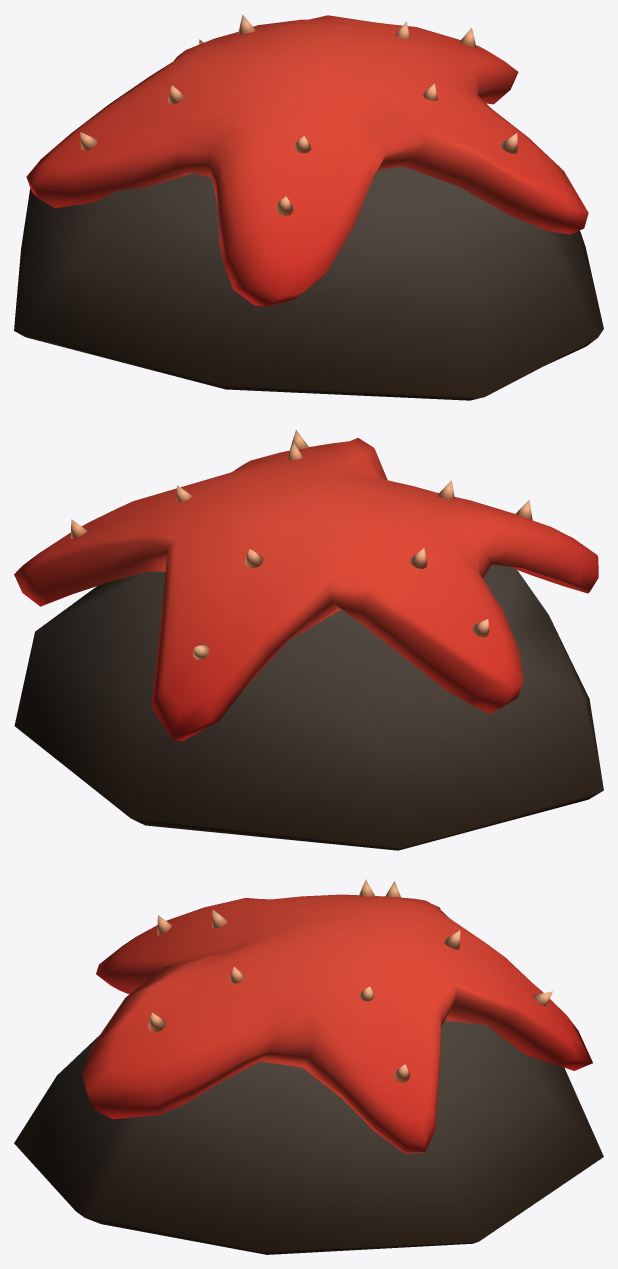
The model's file is estrellaDeMar.fbx.
3 views of the same model, one above another, from view 1: azimuth 30°, elevation 25°; view 2: azimuth 150°, elevation 25°; view 3: azimuth 270°, elevation 25° (orthographic). The views are drawn at different scales.
Parts seen in each view (by area): view 1: estrellaDeMar; view 2: estrellaDeMar; view 3: estrellaDeMar.
Part boxes in pixels (x1,y1,x2,y2): estrellaDeMar: (14, 14, 603, 400); estrellaDeMar: (14, 429, 603, 850); estrellaDeMar: (14, 879, 603, 1254).
Bounding box in the file's own units: 77.52 × 32.32 × 77.01.
Materials: 1 (1 with a texture image).
